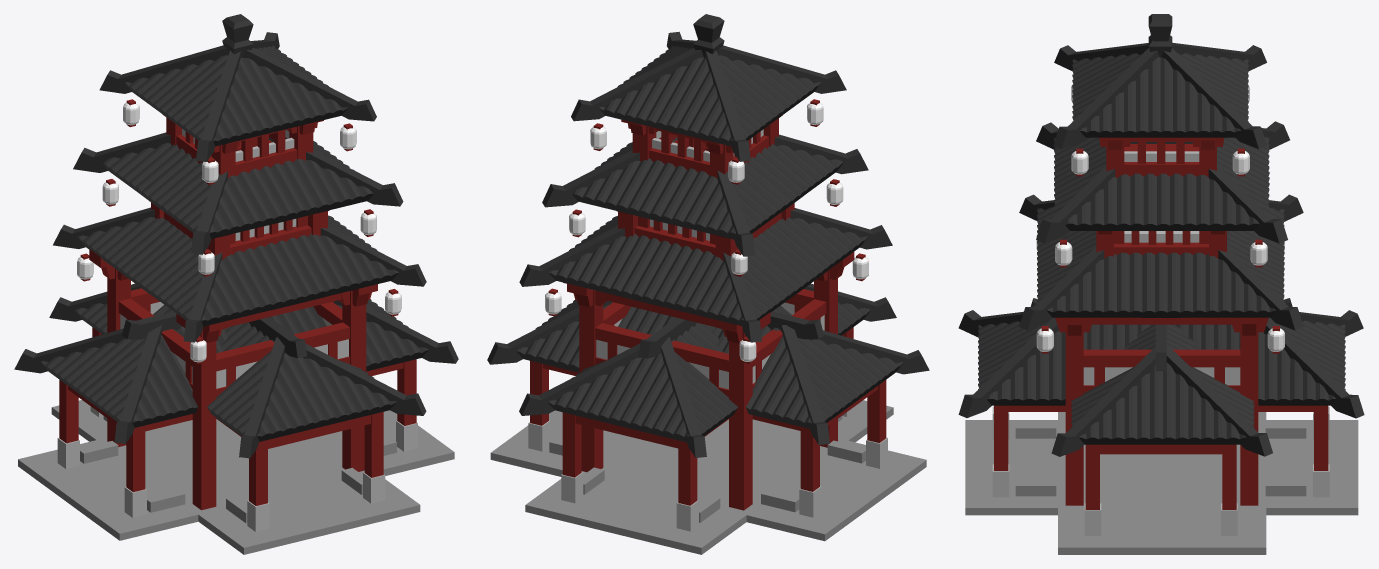
File: house no bool.fbx
3 renders of one model, left to right at view 1: azimuth 30°, elevation 25°; view 2: azimuth 150°, elevation 25°; view 3: azimuth 270°, elevation 25°, orthographic. The views are drawn at different scales.
Parts seen in each view (by area): view 1: 立方体.1971, 立方体.1904, 立方体.1933, 立方体.1905, 立方体.1963, 立方体.1958, 立方体.1945, 立方体.1934, 立方体.1953, 立方体.1944, 立方体.1983, 立方体.1969 (+37 smaller); view 2: 立方体.1971, 立方体.1906, 立方体.1935, 立方体.1905, 立方体.1962, 立方体.1959, 立方体.1946, 立方体.1934, 立方体.1953, 立方体.1944, 立方体.1985, 立方体.1969 (+36 smaller); view 3: 立方体.1971, 立方体.1907, 立方体.1968, 立方体.1936, 立方体.1952, 立方体.1943, 立方体.1984, 立方体.1986, 立方体.2028, 立方体.1962, 立方体.1946, 立方体.1945 (+40 smaller).
Boxes of the visible parts, box(x1,y1,x2,y2) form: 立方体.1971: box(18, 400, 454, 554); 立方体.1904: box(201, 233, 399, 326); 立方体.1933: box(209, 158, 373, 238); 立方体.1905: box(77, 217, 202, 320); 立方体.1963: box(257, 353, 396, 441); 立方体.1958: box(133, 305, 428, 427); 立方体.1945: box(213, 57, 348, 146); 立方体.1934: box(103, 143, 211, 232); 立方体.1953: box(40, 338, 146, 421); 立方体.1944: box(125, 55, 227, 140); 立方体.1983: box(192, 328, 221, 510); 立方体.1969: box(75, 303, 274, 436); 立方体.1971: box(490, 400, 926, 554); 立方体.1906: box(548, 233, 743, 325); 立方体.1935: box(572, 158, 735, 239); 立方体.1905: box(742, 217, 867, 320); 立方体.1962: box(547, 353, 688, 442); 立方体.1959: box(516, 305, 811, 428); 立方体.1946: box(598, 57, 733, 146); 立方体.1934: box(734, 144, 843, 233); 立方体.1953: box(797, 338, 903, 422); 立方体.1944: box(718, 55, 821, 140); 立方体.1985: box(723, 328, 752, 510); 立方体.1969: box(672, 302, 870, 435); 立方体.1971: box(965, 412, 1358, 554); 立方体.1907: box(1047, 252, 1275, 317); 立方体.1968: box(987, 324, 1335, 405); 立方体.1936: box(1065, 173, 1259, 230); 立方体.1952: box(1079, 362, 1246, 444); 立方体.1943: box(1080, 57, 1240, 137); 立方体.1984: box(1055, 317, 1093, 505); 立方体.1986: box(1230, 317, 1268, 505); 立方体.2028: box(1083, 349, 1240, 367); 立方体.1962: box(1276, 320, 1345, 390); 立方体.1946: box(1177, 53, 1248, 121); 立方体.1945: box(1072, 53, 1141, 121).
Size of the model in its own units: 372 by 459 by 372.
